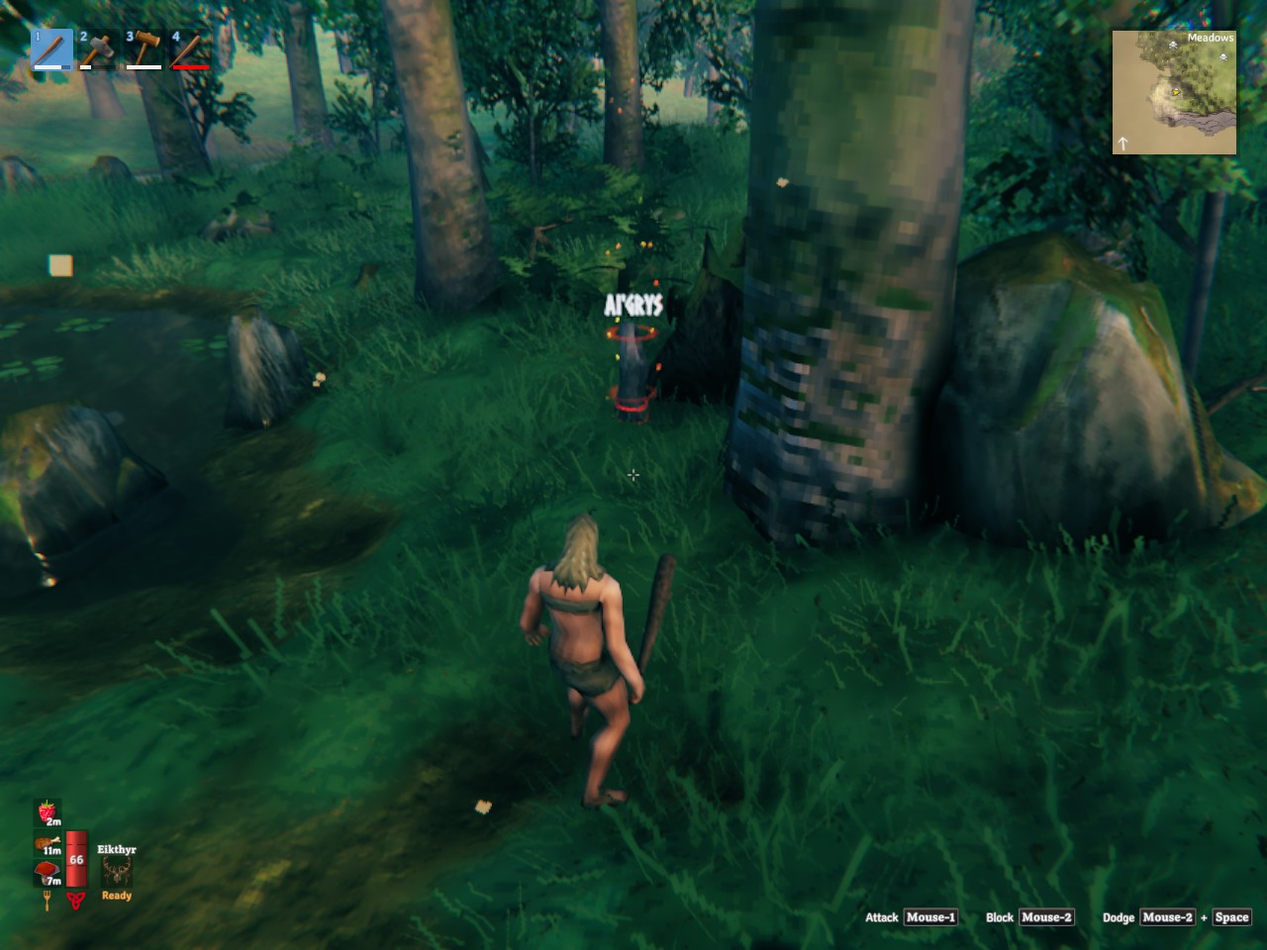Food Indicator: (36, 797, 63, 891)
Gravestone: (614, 319, 653, 423)
Health Bar: (63, 820, 90, 891)
Hotbar: (25, 21, 398, 78)
